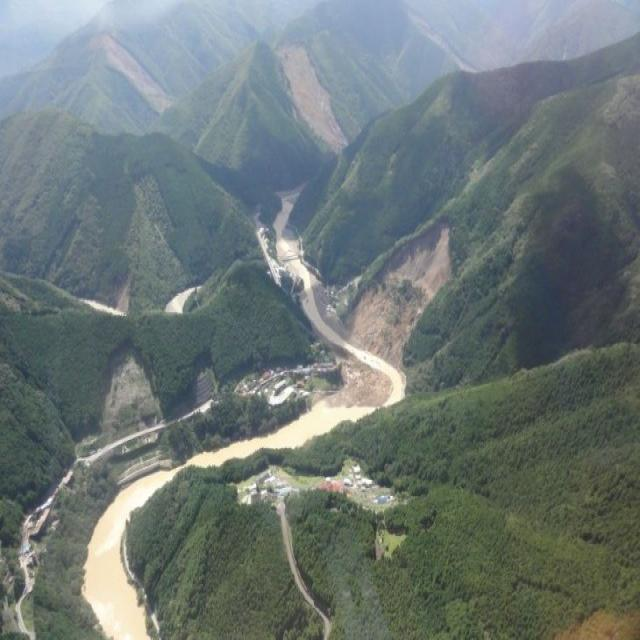Debris-flow: (349, 225, 450, 366), (277, 45, 348, 151), (118, 47, 171, 111), (556, 612, 640, 638)
